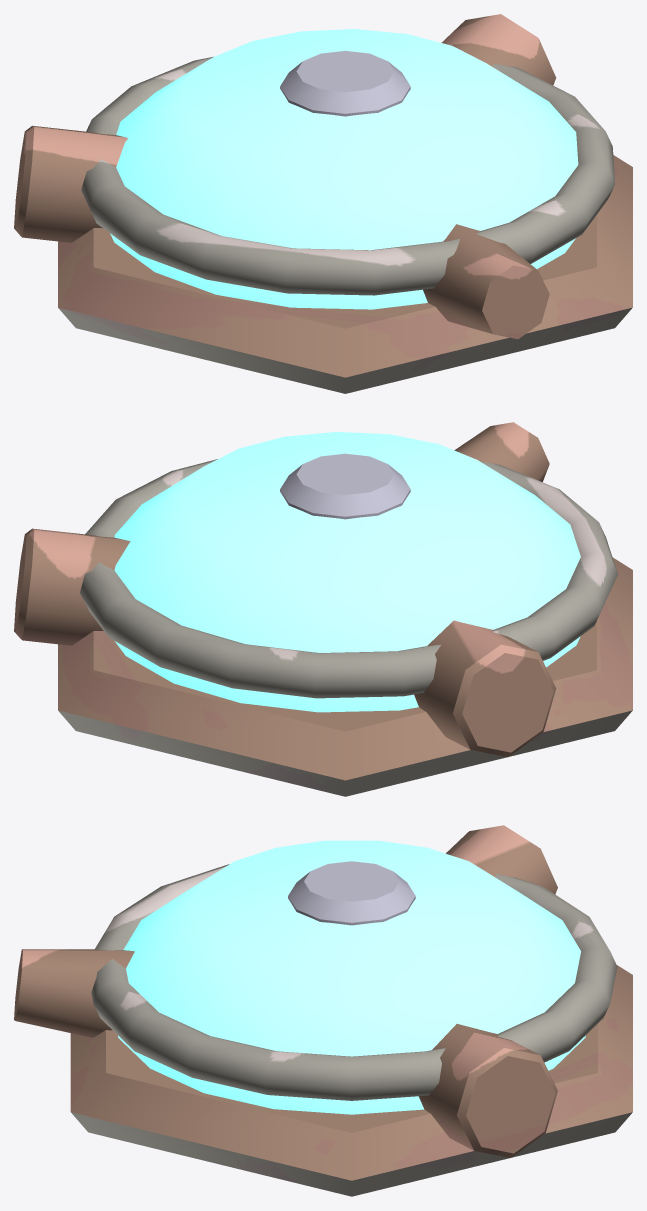
The model's file is R4D_SlowTrap.glb.
3 renders of one model, top to bottom at view 1: azimuth 30°, elevation 25°; view 2: azimuth 150°, elevation 25°; view 3: azimuth 270°, elevation 25°, orthographic. The views are drawn at different scales.
Parts seen in each view (by area): view 1: R4D_SlowTrap_Body; view 2: R4D_SlowTrap_Body; view 3: R4D_SlowTrap_Body.
Boxes of the visible parts, box(x1,y1,x2,y2) form: R4D_SlowTrap_Body: box(14, 14, 632, 393); R4D_SlowTrap_Body: box(14, 422, 632, 796); R4D_SlowTrap_Body: box(14, 825, 632, 1196).
Size of the model in its own units: 0.48 by 0.1523 by 0.4576.
5 materials, 4 textured.
